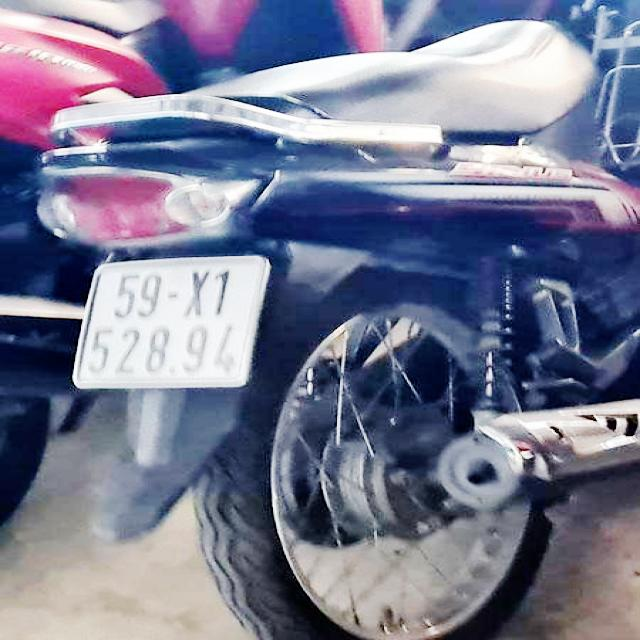license_plate: (73, 260, 266, 386)
